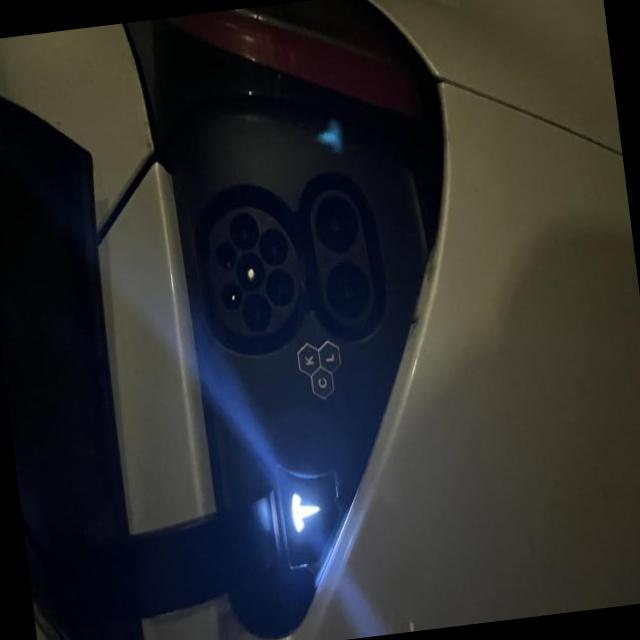inlet: (208, 206, 299, 337)
inlet-above-left: (221, 280, 242, 308)
inlet-above-right: (215, 240, 235, 268)
inlet-below-left: (265, 267, 294, 305)
inlet-below-right: (259, 227, 288, 264)
inlet-center: (235, 252, 265, 289)
inlet-center-left: (242, 291, 271, 331)
inlet-center-right: (229, 211, 259, 249)
